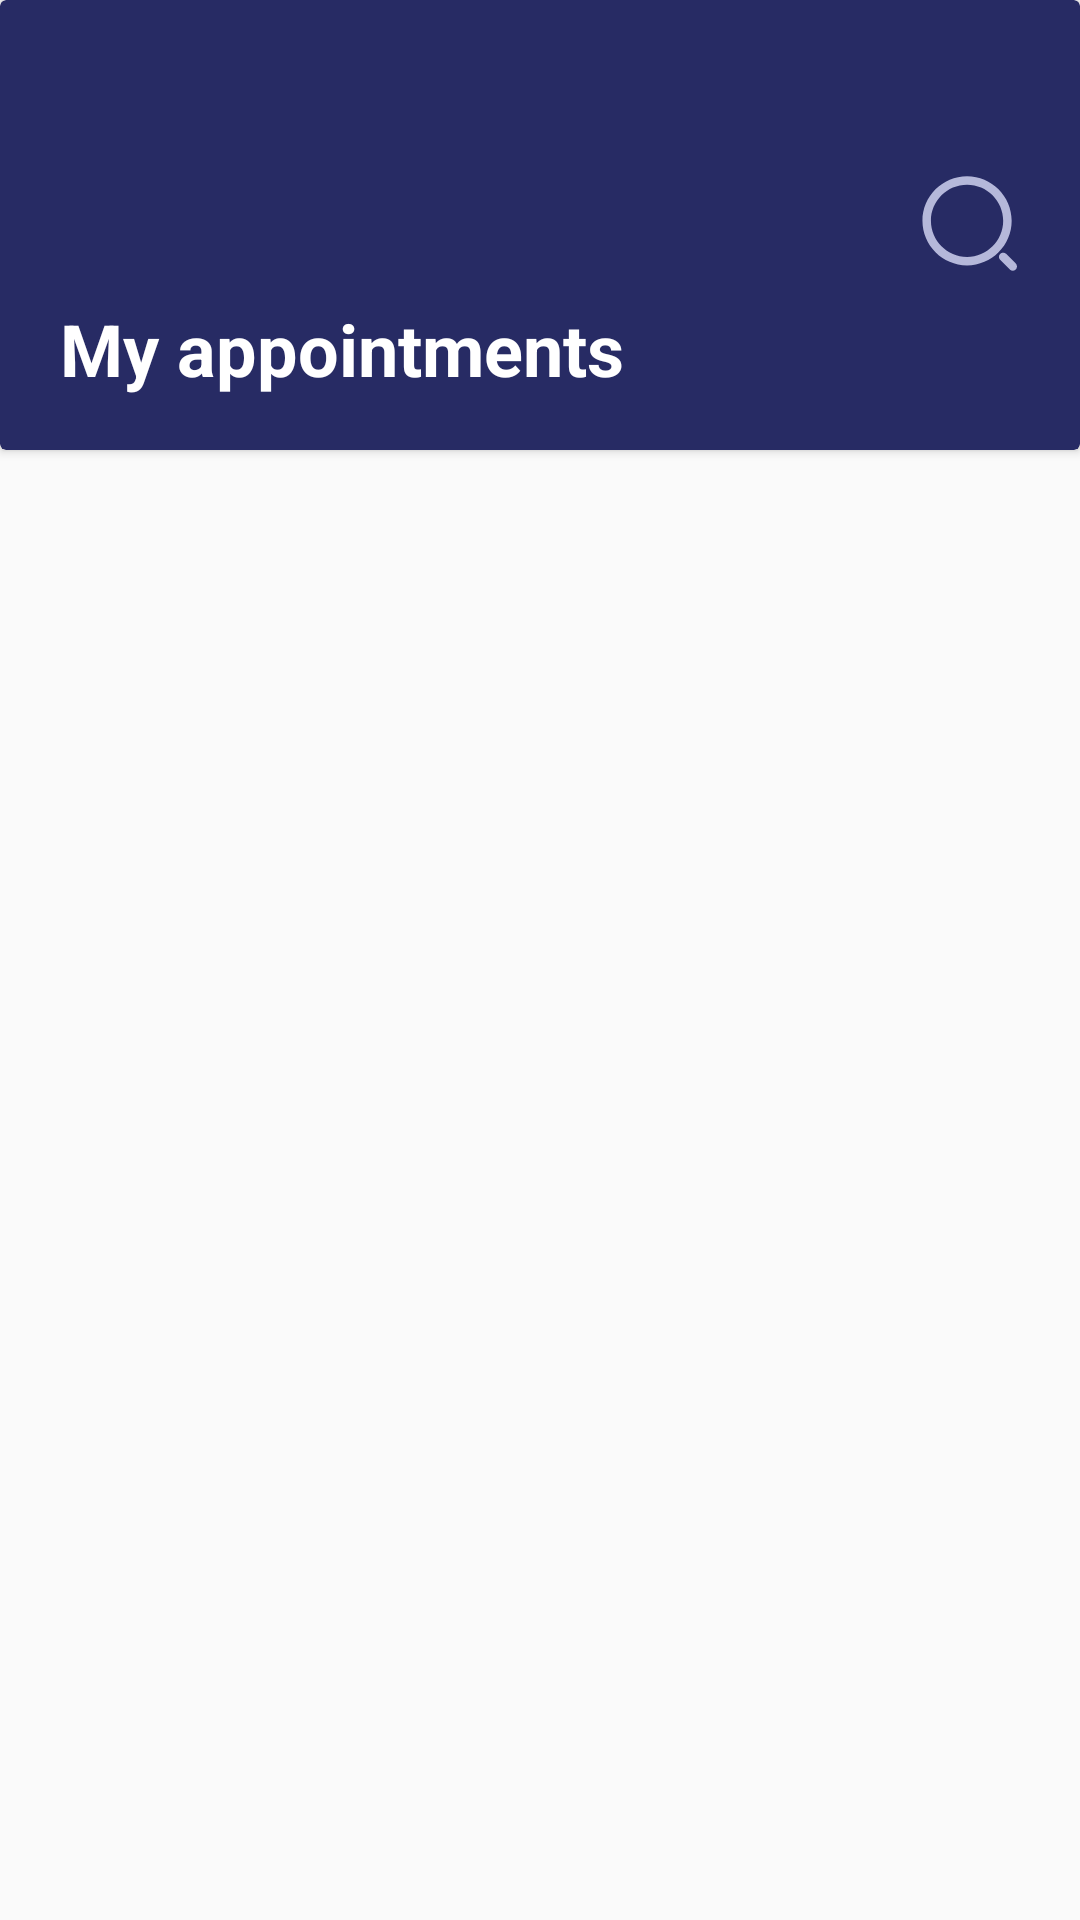

Icons on this 1080w x 1920h Android screen, each with its box as (x1, y1, x2, y2):
search: (922, 176, 1017, 271)
